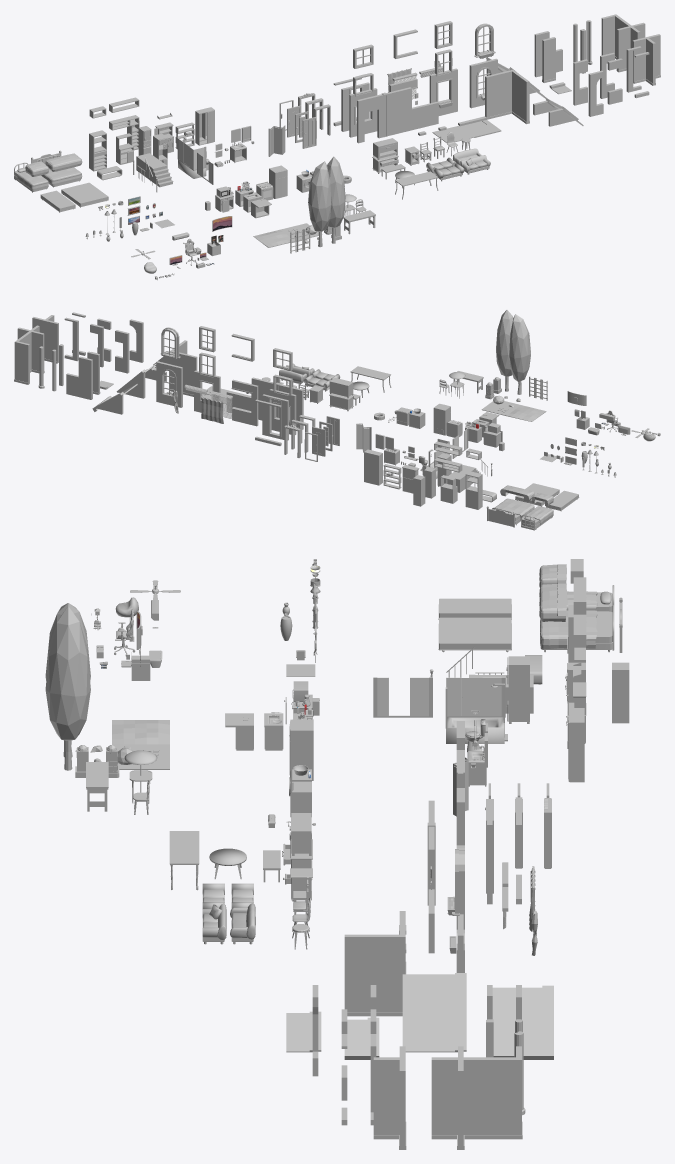
The model's file is Home_Set_LeoVNB.fbx.
3 views of the same model, one above another, from view 1: azimuth 30°, elevation 25°; view 2: azimuth 150°, elevation 25°; view 3: azimuth 270°, elevation 25° (orthographic). The views are drawn at different scales.
Visible parts, largest first — view 1: Wall Standard (Corner) Alt, Big Tree 2, Wall Standard 1x3 X3, Wall Standard, Big Tree 1, Wall Standard (Door), Wall Standard 1x3 X, Bed Base 1 (2), Wall Standard (Window 3), Wall Standard 1x3 (Corner), Wall Standard (Window 1), Drawer 1 (+21 smaller); view 2: Big Tree 2, Big Tree 1, Wall Standard (Corner) Alt, Wall Standard 1x3 X3, Wall Standard (Window 4), Wall Standard 1x3 X, Wall Standard (Window 2), Wall Standard 1x3 (Corner), Wardrobe, Wall Standard (Window 5), Drawer 1, Wall Standard 1x3 (+26 smaller); view 3: Big Tree 1, Wall Standard (Corner) Alt, Wall Standard 1x3 X, Roof 45deg, Wall Standard 1x3 X3, Roof, Wall Standard 1x3 (Corner), Bed Base 1 (2), Bathub Walls Glass 1, Bathub Walls Glass 2, Bed Base 1 (1), Terrain 2 (+13 smaller).
Part boxes in pixels (x1,y1,x2,y2): Wall Standard (Corner) Alt: [485, 69, 529, 121]; Big Tree 2: [308, 161, 331, 247]; Wall Standard 1x3 X3: [632, 34, 660, 83]; Wall Standard: [386, 87, 411, 136]; Big Tree 1: [327, 156, 345, 243]; Wall Standard (Door): [357, 94, 383, 143]; Wall Standard 1x3 X: [617, 20, 645, 71]; Bed Base 1 (2): [61, 182, 108, 207]; Wall Standard (Window 3): [429, 68, 457, 115]; Wall Standard 1x3 (Corner): [601, 14, 624, 56]; Wall Standard (Window 1): [349, 88, 377, 137]; Drawer 1: [89, 130, 106, 171]; Big Tree 2: [509, 314, 530, 394]; Big Tree 1: [496, 310, 513, 391]; Wall Standard (Corner) Alt: [169, 340, 197, 394]; Wall Standard 1x3 X3: [32, 315, 58, 361]; Wall Standard (Window 4): [156, 361, 182, 407]; Wall Standard 1x3 X: [17, 325, 44, 372]; Wall Standard (Window 2): [232, 379, 258, 426]; Wall Standard 1x3 (Corner): [14, 336, 29, 384]; Wardrobe: [364, 449, 382, 485]; Wall Standard (Window 5): [262, 394, 288, 440]; Drawer 1: [465, 471, 482, 509]; Wall Standard 1x3: [78, 356, 92, 399]; Big Tree 1: [45, 606, 90, 770]; Wall Standard (Corner) Alt: [344, 911, 405, 1012]; Wall Standard 1x3 X: [431, 1046, 489, 1149]; Roof 45deg: [402, 974, 457, 1052]; Wall Standard 1x3 X3: [373, 1046, 405, 1149]; Roof: [492, 987, 542, 1049]; Wall Standard 1x3 (Corner): [490, 1046, 521, 1134]; Bed Base 1 (2): [438, 617, 511, 652]; Bathub Walls Glass 1: [445, 677, 505, 728]; Bathub Walls Glass 2: [373, 677, 432, 717]; Bed Base 1 (1): [438, 598, 511, 619]; Terrain 2: [112, 720, 169, 744].
Bounding box in the file's own units: 4461 × 673 × 2008.
